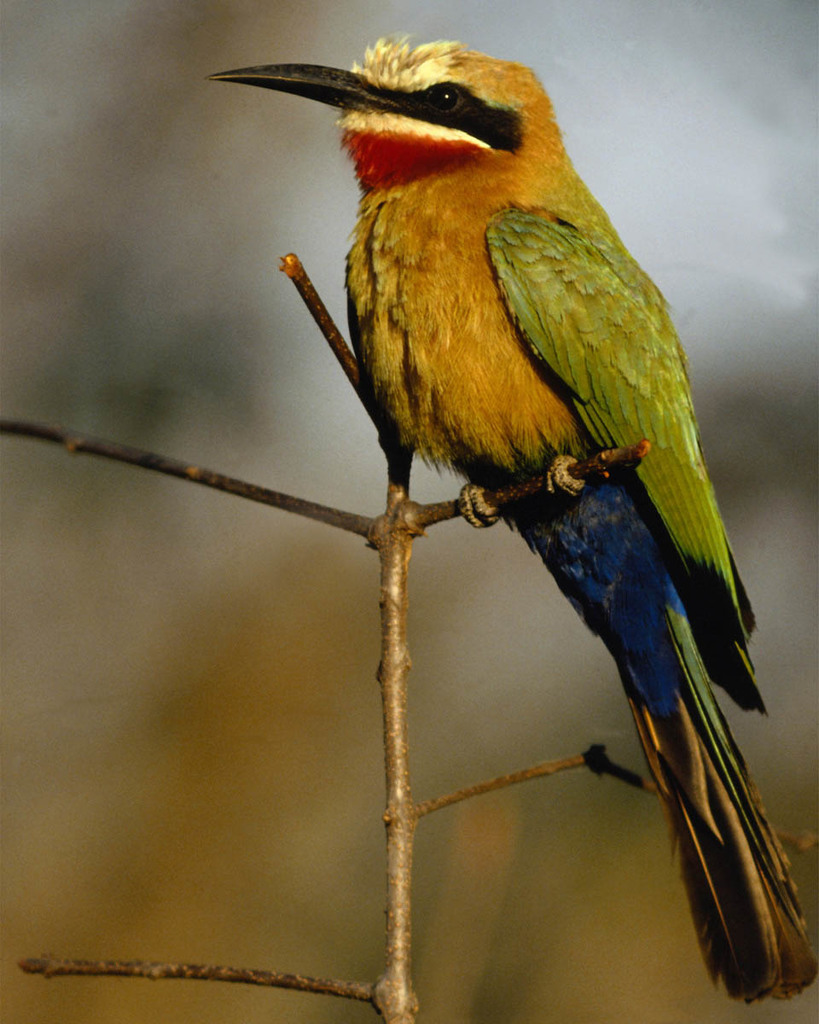Bird: (204, 31, 819, 1006)
